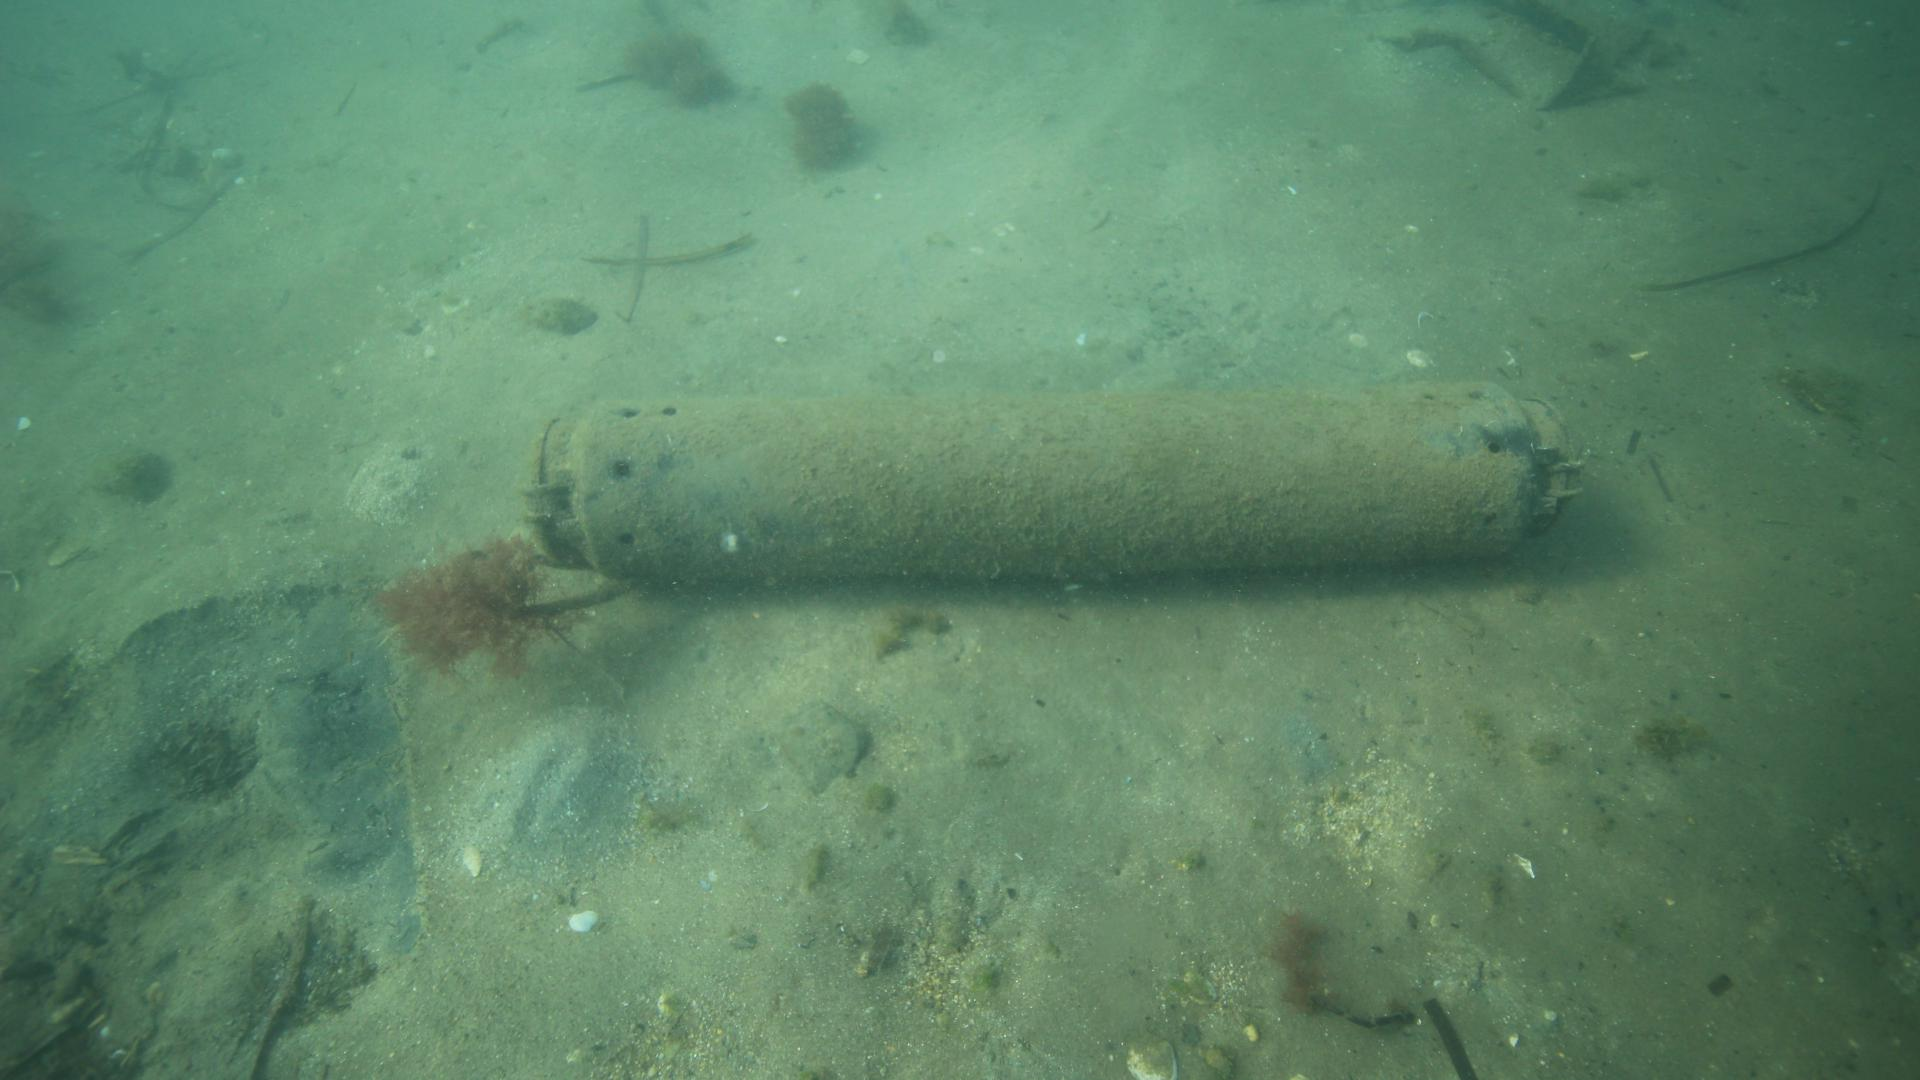eel fish trap: (525, 385, 1578, 584)
